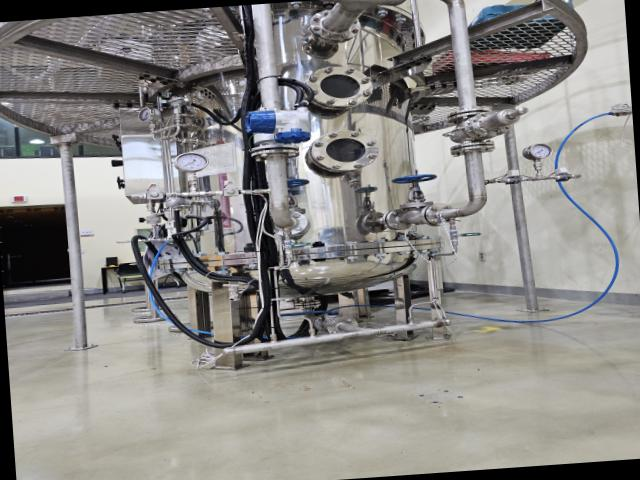Flange: (300, 63, 378, 114), (306, 127, 382, 174)
Flush Ring: (306, 6, 364, 43), (261, 210, 312, 238), (242, 140, 301, 160), (320, 313, 366, 336), (442, 104, 498, 122), (444, 138, 498, 156), (418, 201, 452, 228), (380, 207, 410, 230)
GasRegulator: (132, 92, 212, 150)
Nuts: (140, 188, 172, 204), (496, 171, 530, 186), (218, 185, 248, 200), (548, 169, 576, 184)
Piston Valve: (390, 164, 440, 208), (284, 175, 310, 210)
Pressure Gage: (516, 139, 558, 183), (172, 149, 211, 195)
